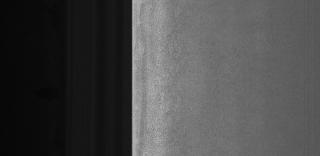silk spot: (149, 21, 189, 111)
